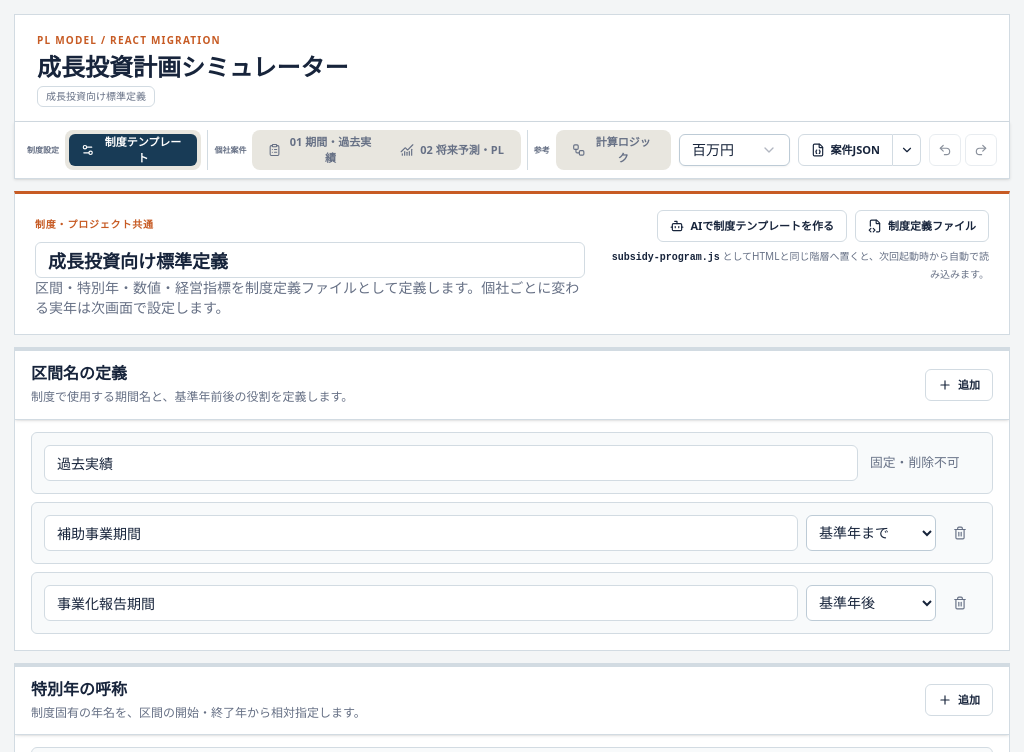
Scenario: 制度定義画面 › 削除不可の過去実績も制度上の区間名として編集できる
Replace the text in the field named "過去実績区間 名称" with "直近実績期間" at (451, 462), box [44, 444, 858, 480]
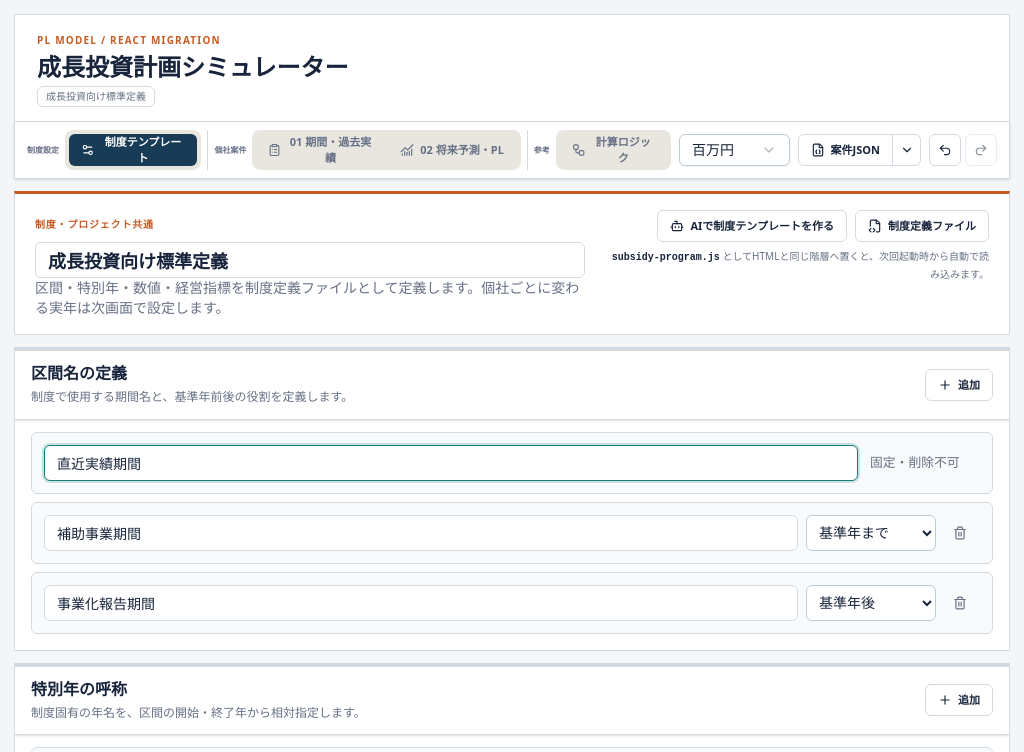
Click the button with aria-label "02 期間・過去実績" at (321, 150), box [256, 134, 386, 166]
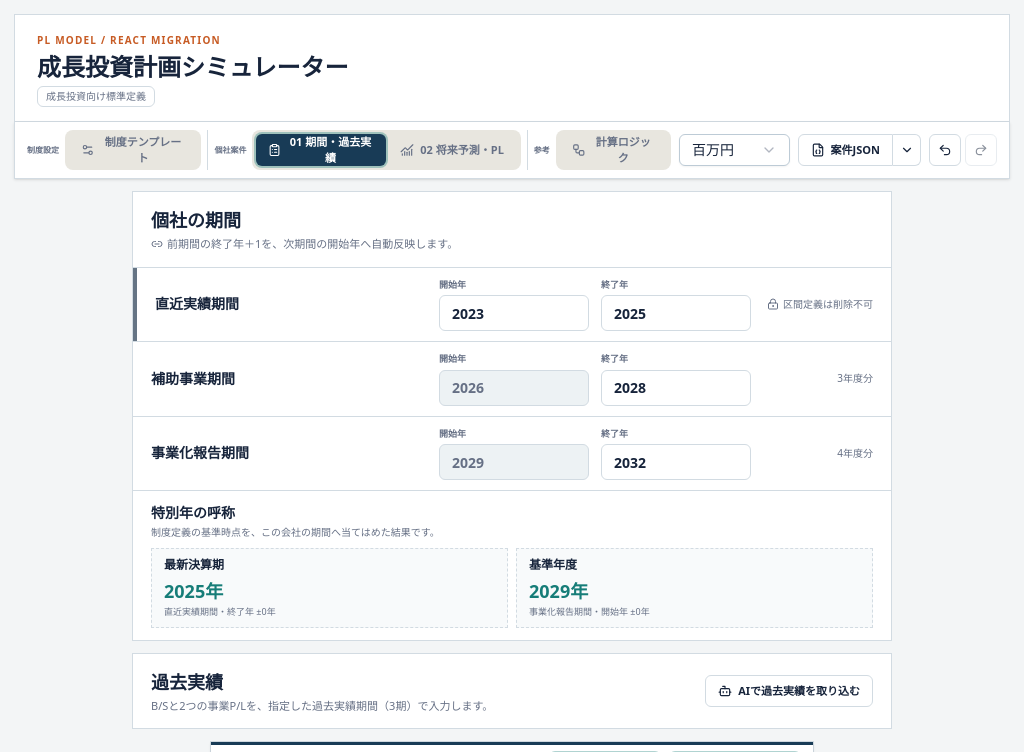
Expected: the text "直近実績期間" is shown, [155, 294, 239, 313]
